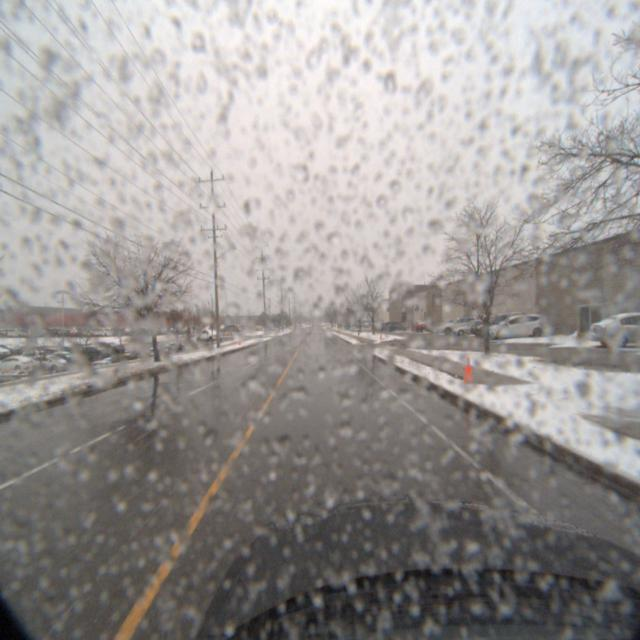Car: (484, 313, 552, 339), (472, 312, 532, 339), (452, 318, 496, 337), (440, 316, 481, 336)
